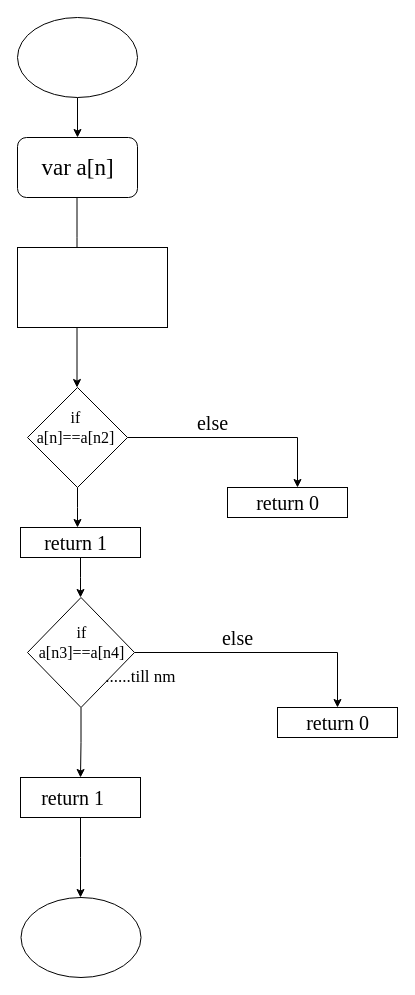
The diagram is 415 pixels wide and 995 high, and some of its shapes have lost their labels. The centre of each missing label's shape, as x and y in pixels:
End: the point at 80,937
Input-> enter a number: a: the point at 92,287
Start: the point at 77,57
